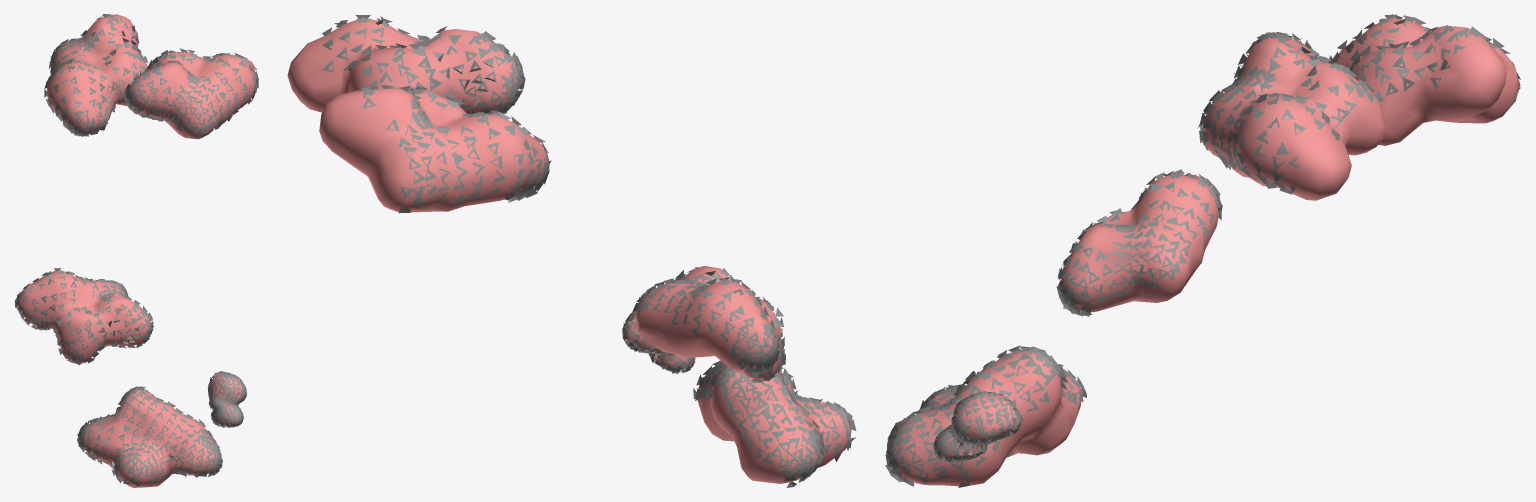
Rendered from SM_ENV_LKNVLD_TreeSet_Q_Lod1.gltf.
3 views of the same model, side by side, from view 1: azimuth 30°, elevation 25°; view 2: azimuth 150°, elevation 25°; view 3: azimuth 270°, elevation 25° (orthographic). The views are drawn at different scales.
Parts seen in each view (by area): view 1: SM_ENV_LKNVLD_TreeSet_Q_Lod1; view 2: SM_ENV_LKNVLD_TreeSet_Q_Lod1; view 3: SM_ENV_LKNVLD_TreeSet_Q_Lod1.
Boxes of the visible parts, box(x1,y1,x2,y2) form: SM_ENV_LKNVLD_TreeSet_Q_Lod1: box(15, 14, 258, 487); SM_ENV_LKNVLD_TreeSet_Q_Lod1: box(287, 15, 856, 487); SM_ENV_LKNVLD_TreeSet_Q_Lod1: box(885, 14, 1521, 487).
Bounding box in the file's own units: 29.6 × 34.07 × 37.05.
